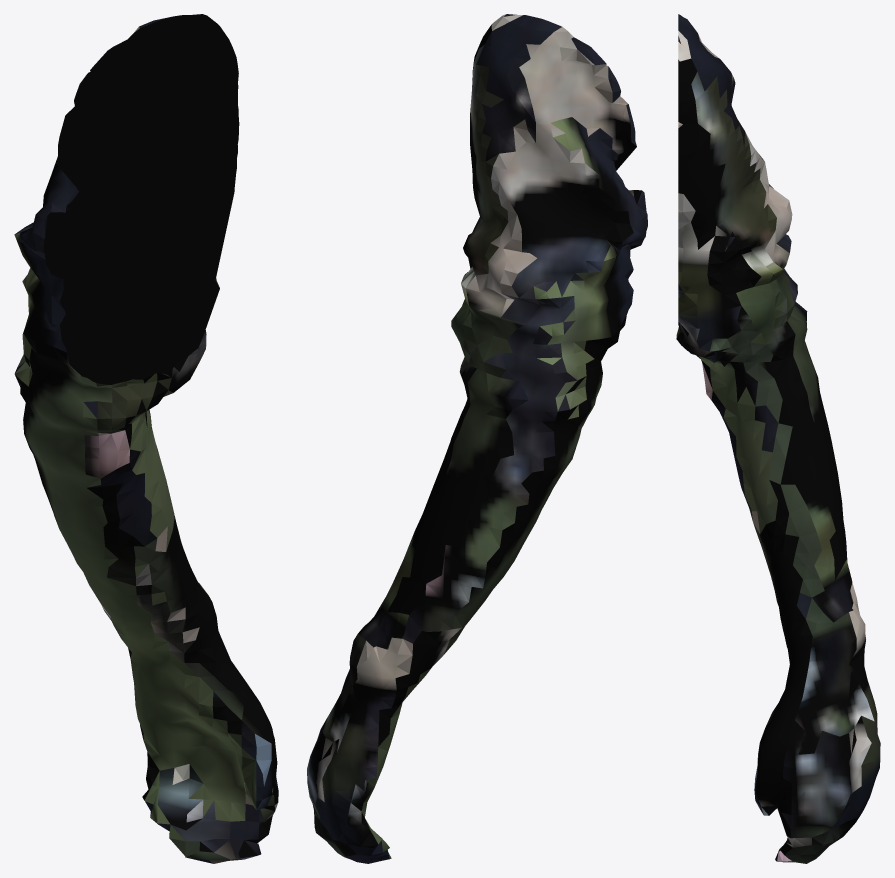
The model's file is maxiArmL.fbx.
The picture shows the model from 3 angles, left to right: view 1: azimuth 30°, elevation 25°; view 2: azimuth 150°, elevation 25°; view 3: azimuth 270°, elevation 25°; orthographic projection. The views are drawn at different scales.
Parts seen in each view (by area): view 1: Model.002; view 2: Model.002; view 3: Model.002.
Boxes of the visible parts, left/top/right/bottom form: Model.002: left=14, top=14, right=278, bottom=863; Model.002: left=307, top=14, right=647, bottom=863; Model.002: left=676, top=14, right=880, bottom=863.
Bounding box in the file's own units: 24.01 × 68.88 × 16.27.
